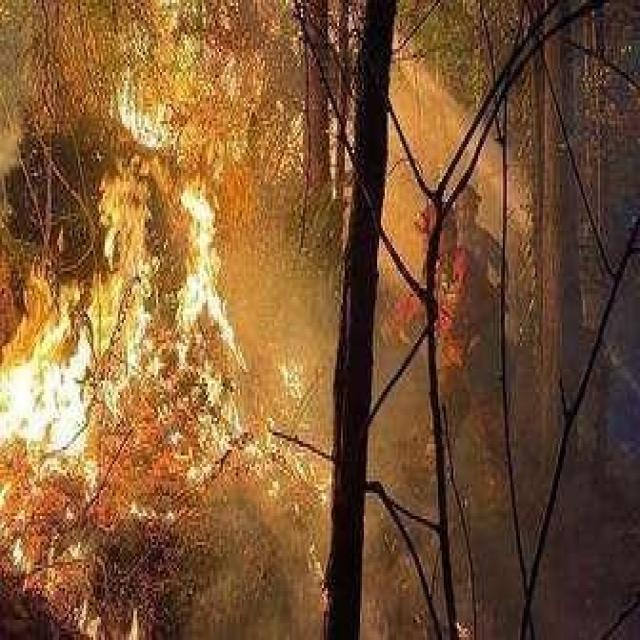fire: (7, 32, 246, 633)
